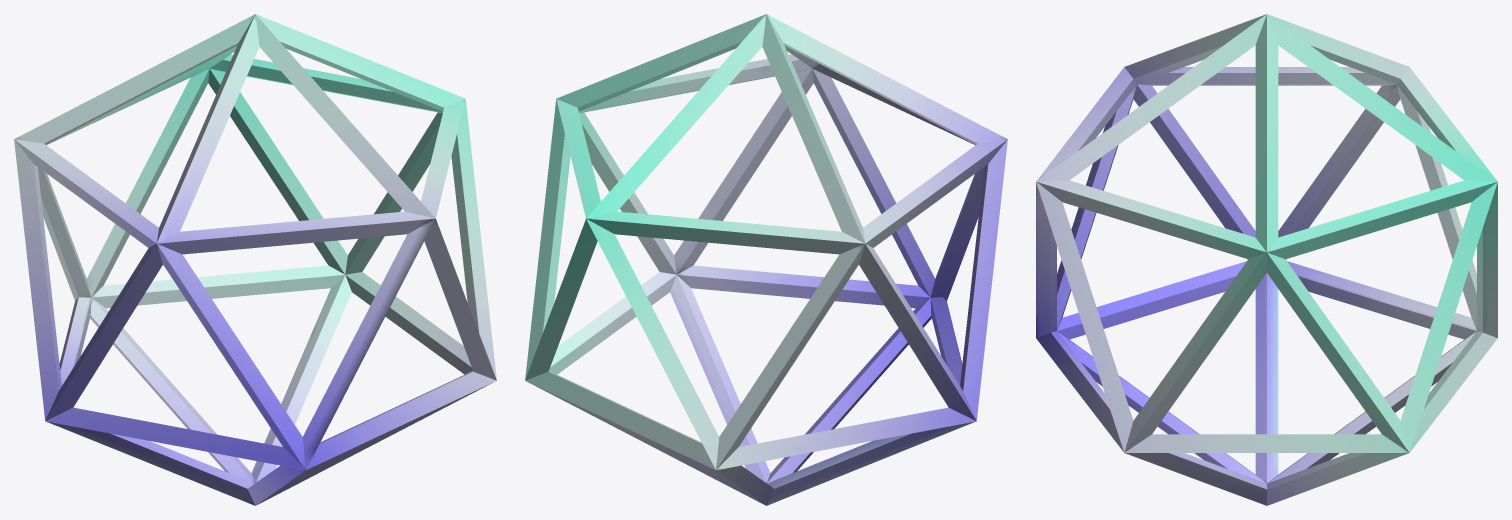
The model's file is icosphere_tool.glb.
3 views of the same model, side by side, from view 1: azimuth 30°, elevation 25°; view 2: azimuth 150°, elevation 25°; view 3: azimuth 270°, elevation 25° (orthographic).
Visible parts, largest first — view 1: Icosphere; view 2: Icosphere; view 3: Icosphere.
Part boxes in pixels (<box>): Icosphere: <box>14,14,496,505</box>; Icosphere: <box>525,14,1007,505</box>; Icosphere: <box>1036,14,1497,505</box>.
Bounding box in the file's own units: 1.87 × 2.1 × 1.78.
Materials: 1 (1 with a texture image).
